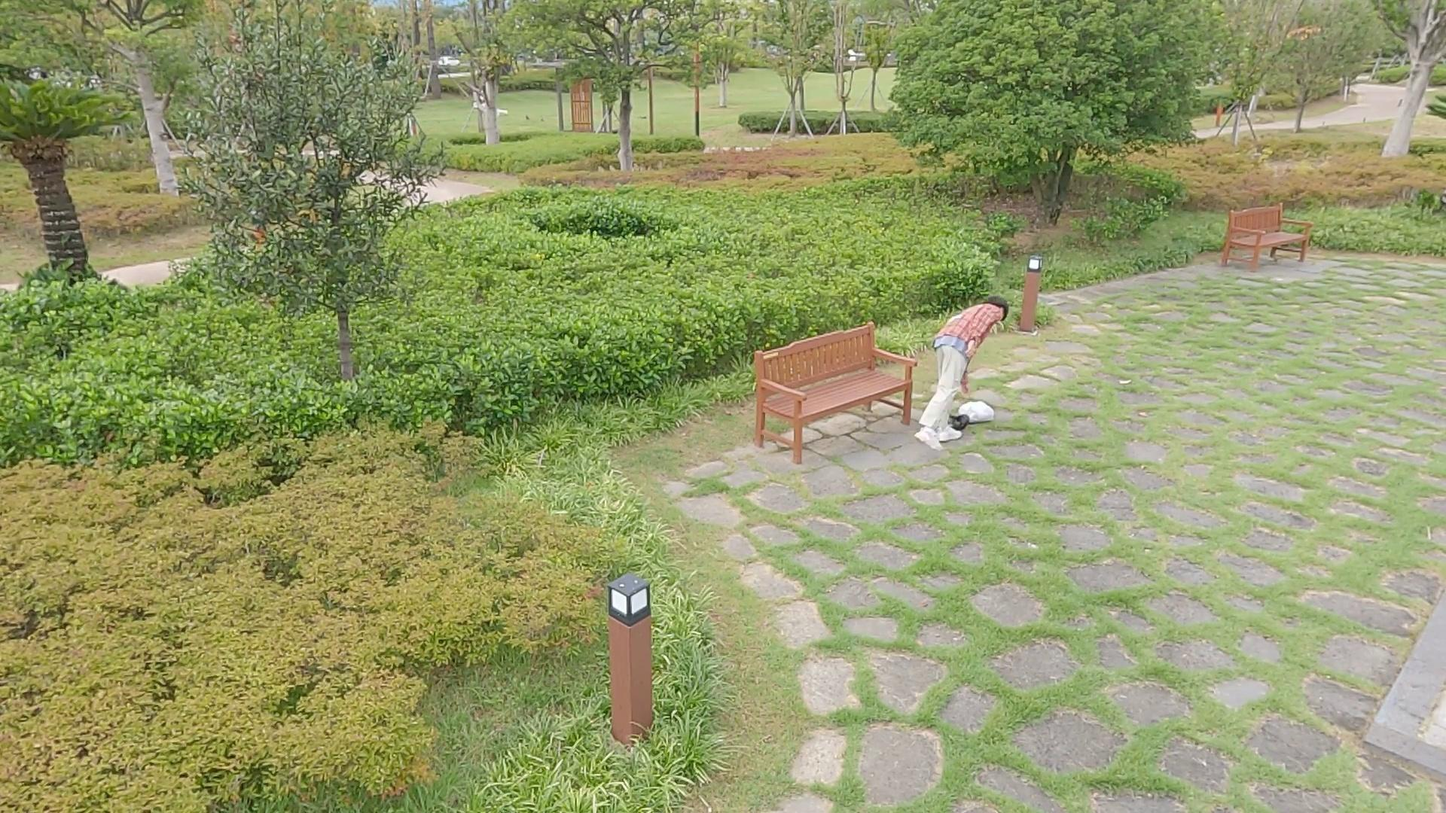person: (918, 290, 1008, 450)
trash: (956, 398, 999, 425), (946, 405, 970, 431)
